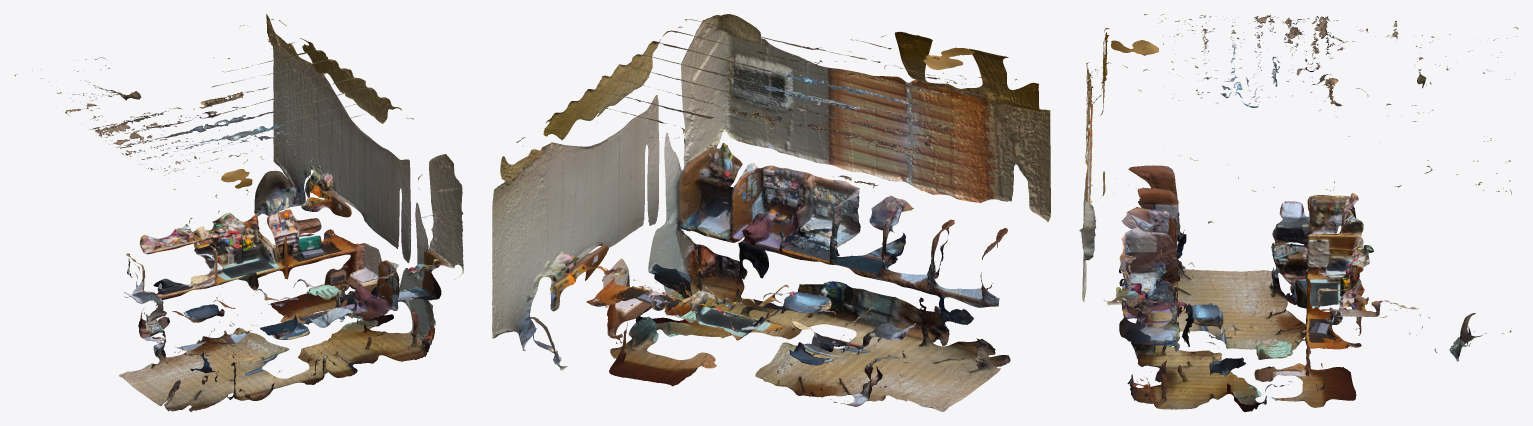
The picture shows the model from 3 angles, left to right: view 1: azimuth 30°, elevation 25°; view 2: azimuth 150°, elevation 25°; view 3: azimuth 270°, elevation 25°; orthographic projection. The views are drawn at different scales.
Size of the model in its own units: 3.9 by 3.24 by 4.96.
Materials: 1 (1 with a texture image).
